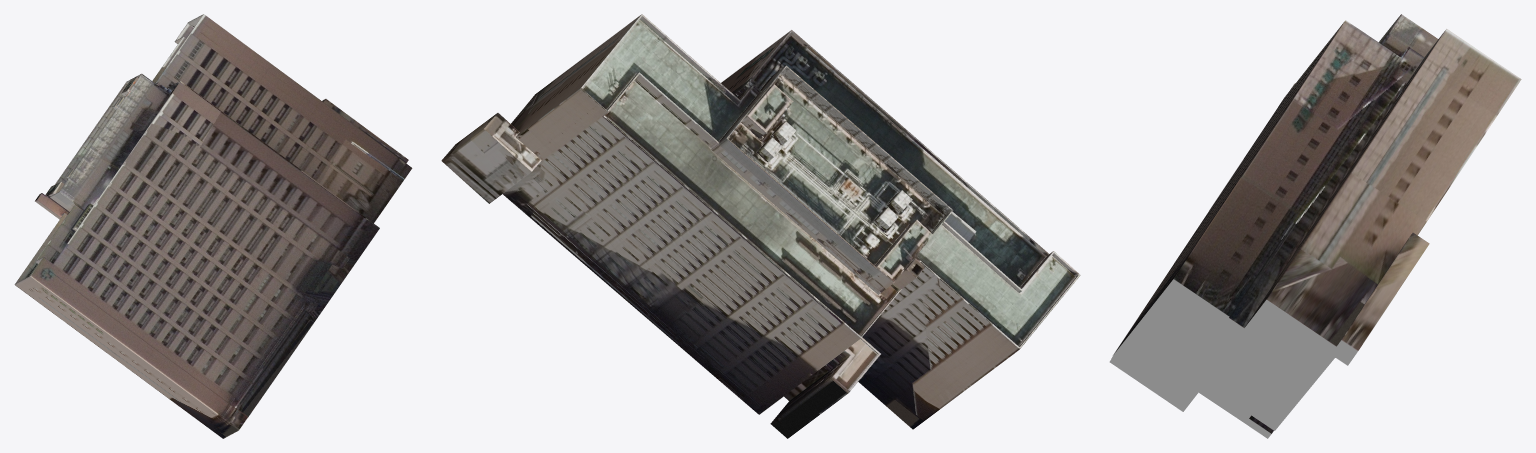
File: 9887_bldg_Building.glb
3 renders of one model, left to right at view 1: azimuth 30°, elevation 25°; view 2: azimuth 150°, elevation 25°; view 3: azimuth 270°, elevation 25°, orthographic. The views are drawn at different scales.
Size of the model in its own units: 114 by 90.06 by 77.28.
2 materials, 1 textured.
